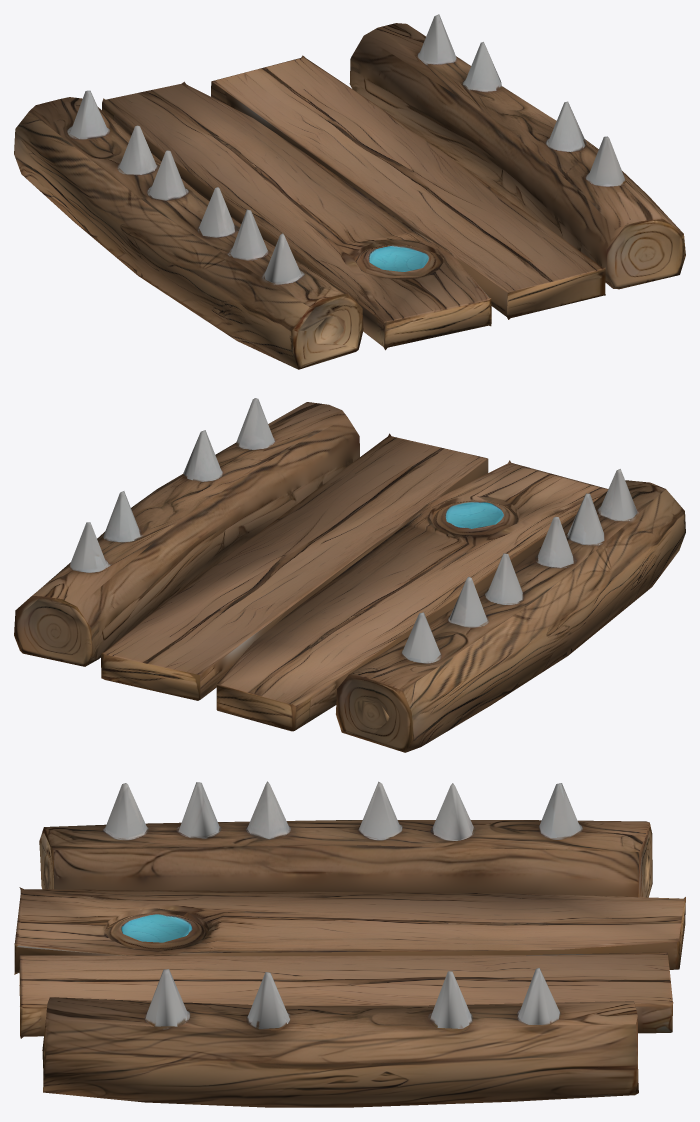
The model's file is 木制捕兽夹.fbx.
3 renders of one model, top to bottom at view 1: azimuth 30°, elevation 25°; view 2: azimuth 150°, elevation 25°; view 3: azimuth 270°, elevation 25°, orthographic. The views are drawn at different scales.
Parts seen in each view (by area): view 1: texture_pbr_v128; view 2: texture_pbr_v128; view 3: texture_pbr_v128.
Boxes of the visible parts, x1,y1,x2,y2 form: texture_pbr_v128: (14, 14, 685, 369); texture_pbr_v128: (14, 398, 685, 752); texture_pbr_v128: (14, 781, 685, 1107).
Size of the model in its own units: 83.16 by 18.97 by 99.65.
Materials: 1 (1 with a texture image).
